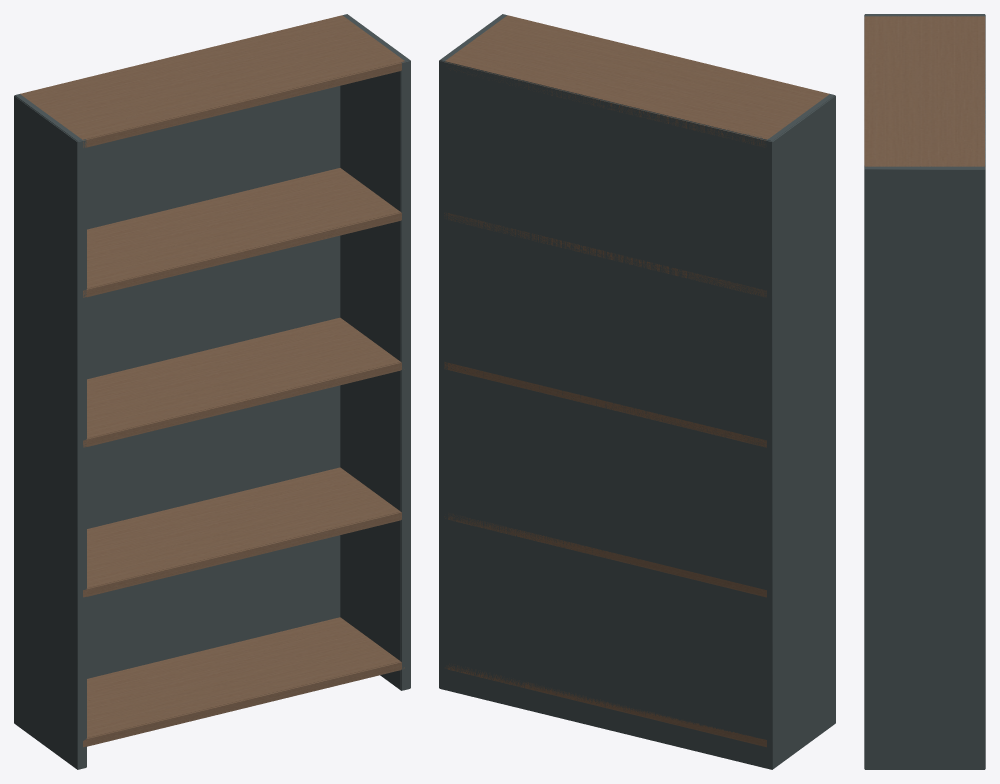
The model's file is industrial.bookcase.gltf.
The picture shows the model from 3 angles, left to right: view 1: azimuth 30°, elevation 25°; view 2: azimuth 150°, elevation 25°; view 3: azimuth 270°, elevation 25°; orthographic projection. The views are drawn at different scales.
Parts seen in each view (by area): view 1: industrial.bookcase.upright; view 2: industrial.bookcase.upright; view 3: industrial.bookcase.upright.
Part boxes in pixels (<box>): industrial.bookcase.upright: <box>14,14,410,769</box>; industrial.bookcase.upright: <box>439,14,835,769</box>; industrial.bookcase.upright: <box>864,14,985,769</box>.
Size of the model in its own units: 1 by 1.8 by 0.33.
Materials: 2 (1 with a texture image).
